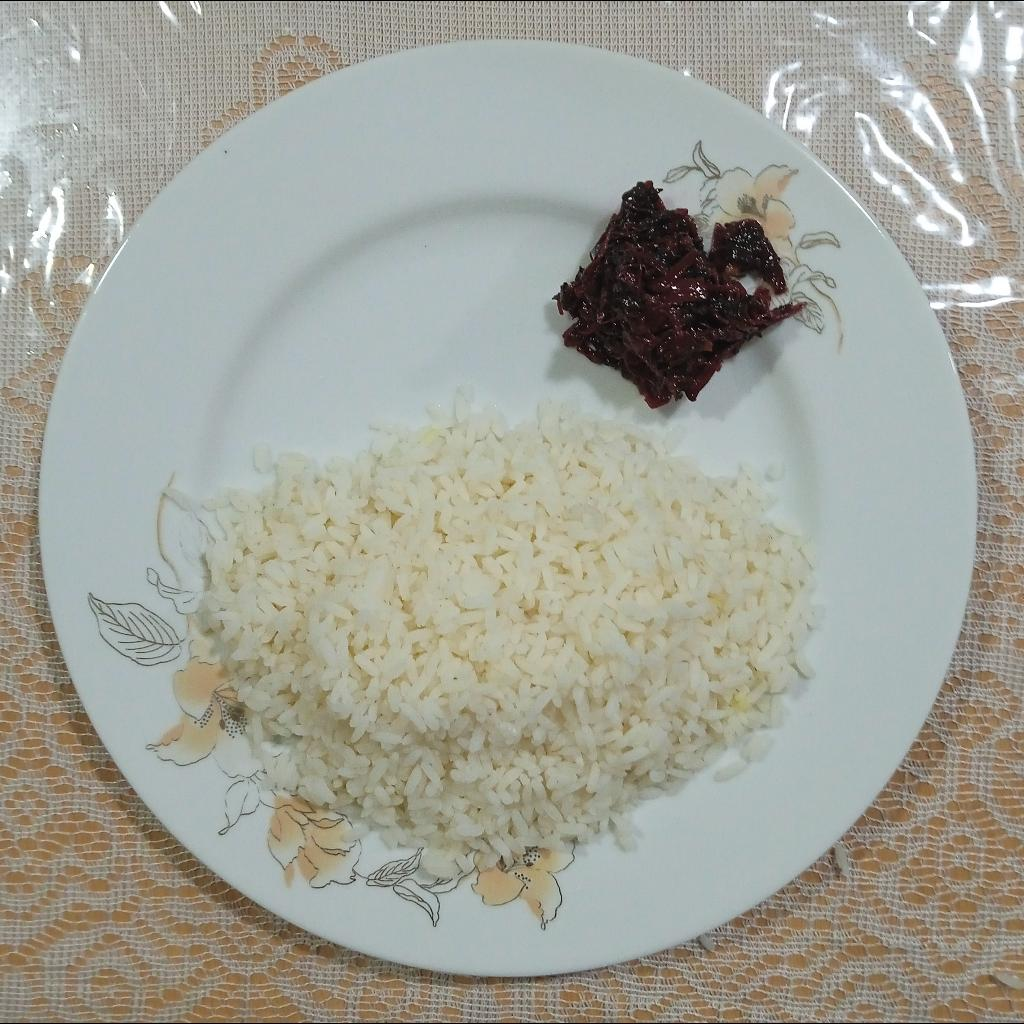rice: (162, 391, 823, 874)
shak: (550, 180, 808, 410)
